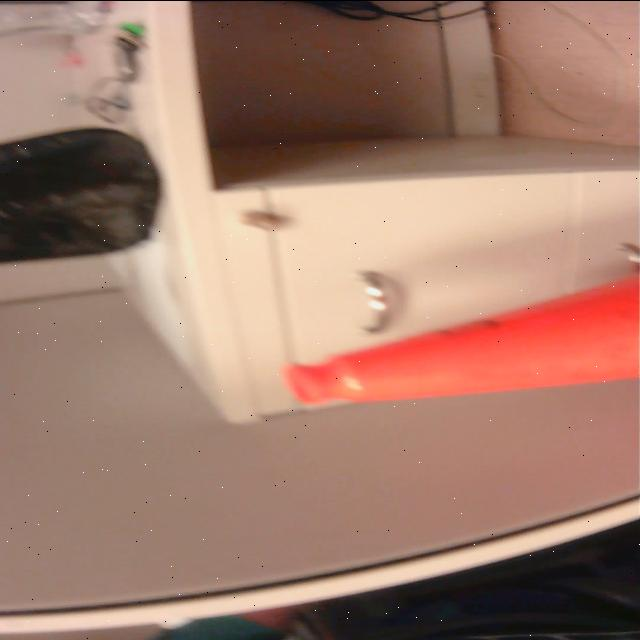traffic cone: (278, 258, 640, 412)
